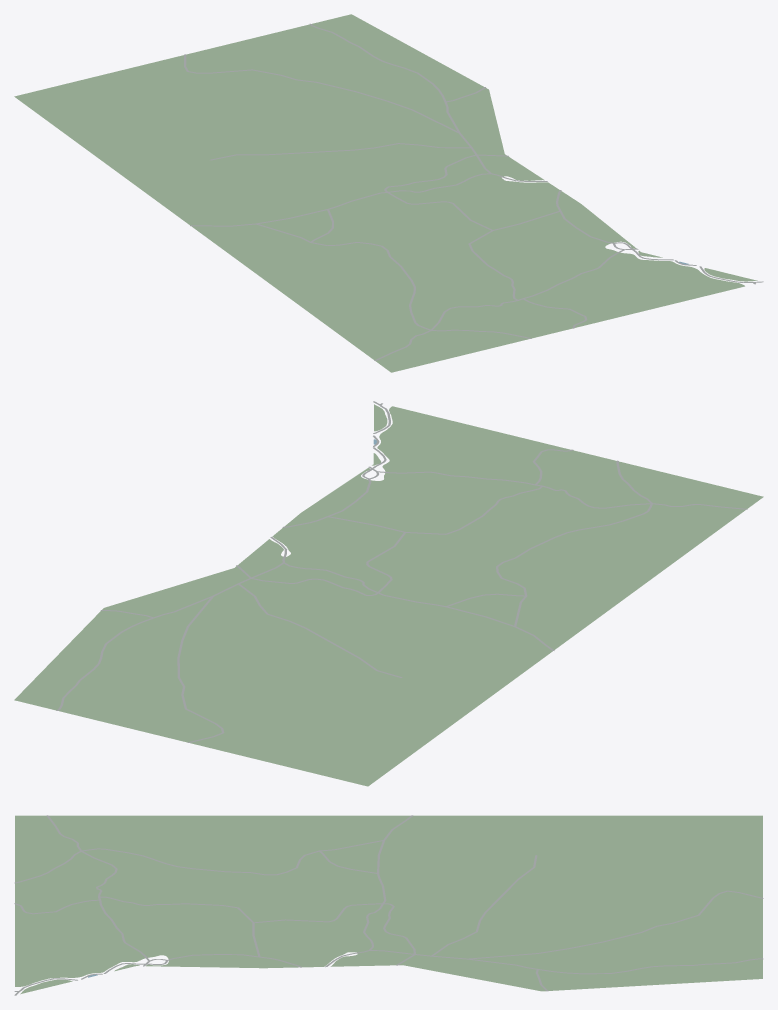
The model's file is 19_5-known-coarse.glb.
3 renders of one model, top to bottom at view 1: azimuth 30°, elevation 25°; view 2: azimuth 150°, elevation 25°; view 3: azimuth 270°, elevation 25°, orthographic. The views are drawn at different scales.
Bounding box in the file's own units: 568 × 0.1 × 998.
